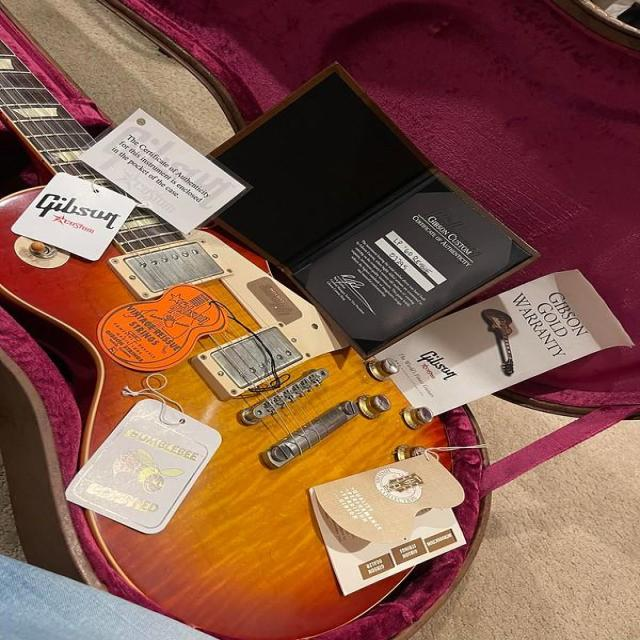guitar: (0, 188, 446, 639)
